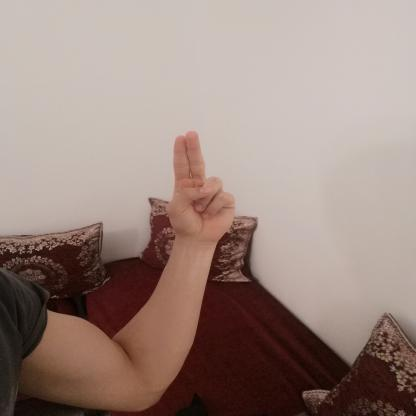TA: (154, 119, 247, 247)
